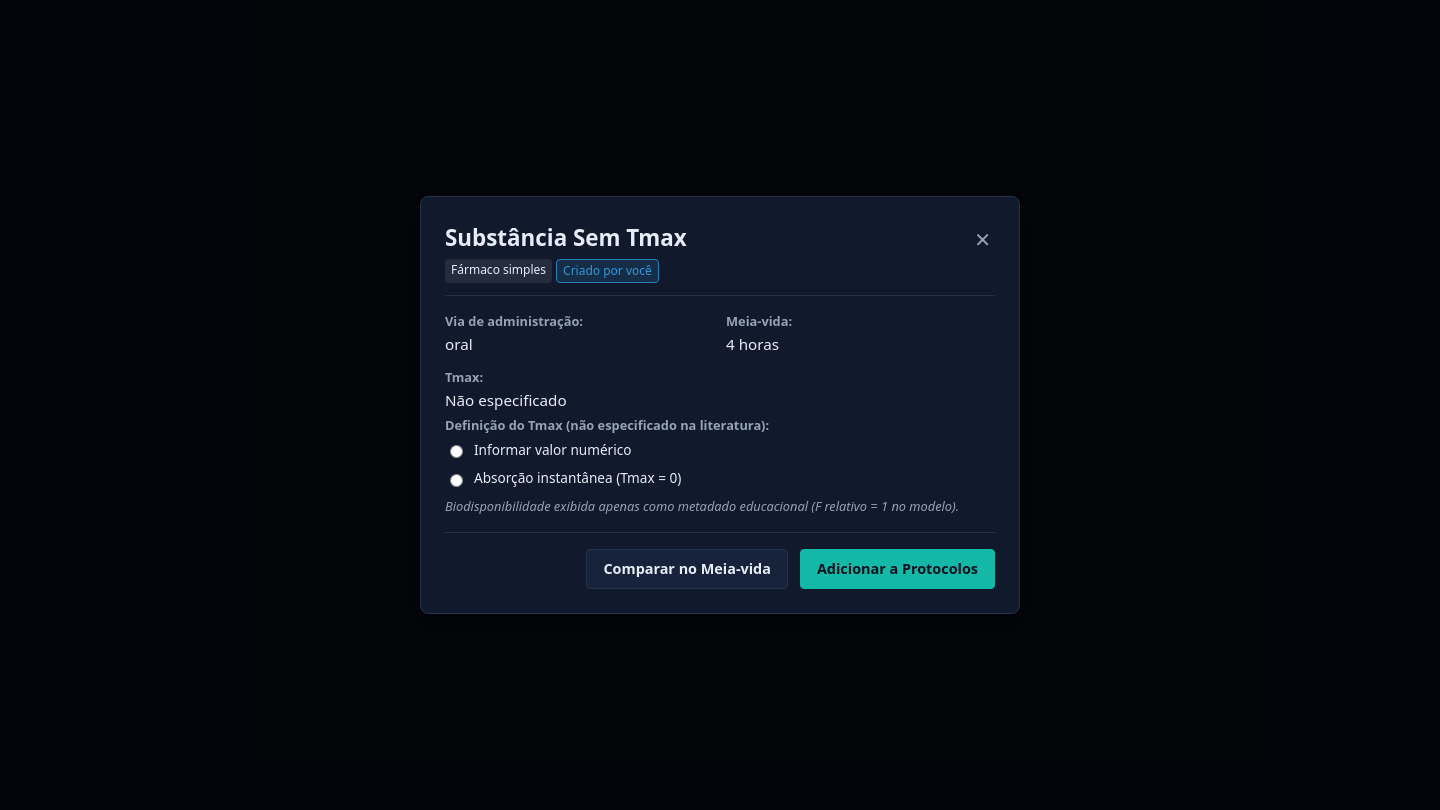
E10.1 — Blocker 7: Tmax unknown possui controles para valor e instantâneo › permite escolher absorção instantânea e gerar intent válido
Clicar em Comparar antes de escolher Tmax deve bloquear com alerta inline
Click the button "Comparar no Meia-vida": click(687, 569) top-left (586, 549), bottom-right (788, 589)
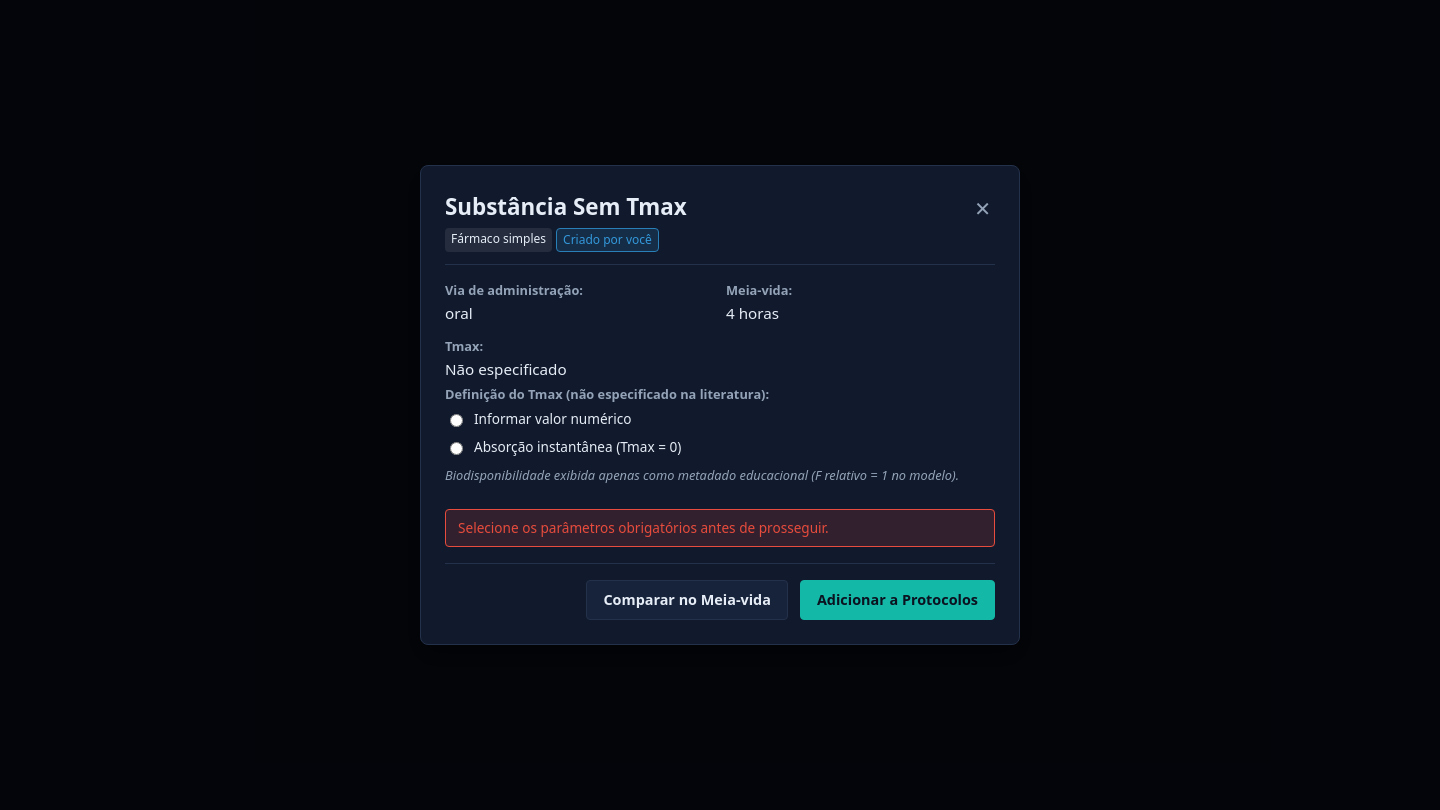
Check: the message shows "Selecione os parâmetros obrigatórios antes de prosseguir", box top-left (458, 518), bottom-right (829, 537)
Seleciona opção instantânea
Click the radio button labelled "Absorção instantânea (Tmax = 0)": click(456, 449) top-left (450, 442), bottom-right (463, 455)
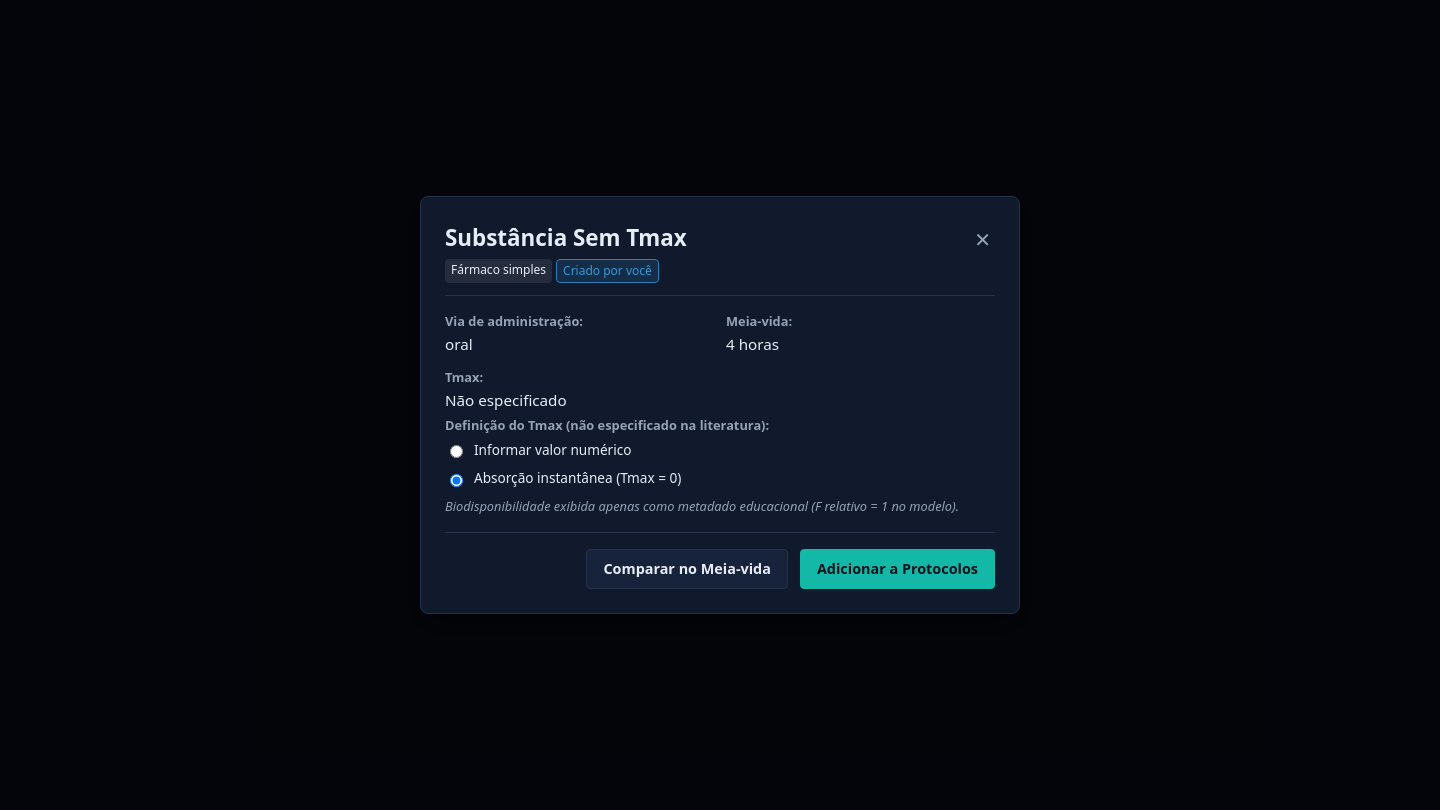
Agora clica em Comparar com sucesso
Click the button "Comparar no Meia-vida": click(687, 569) top-left (586, 549), bottom-right (788, 589)
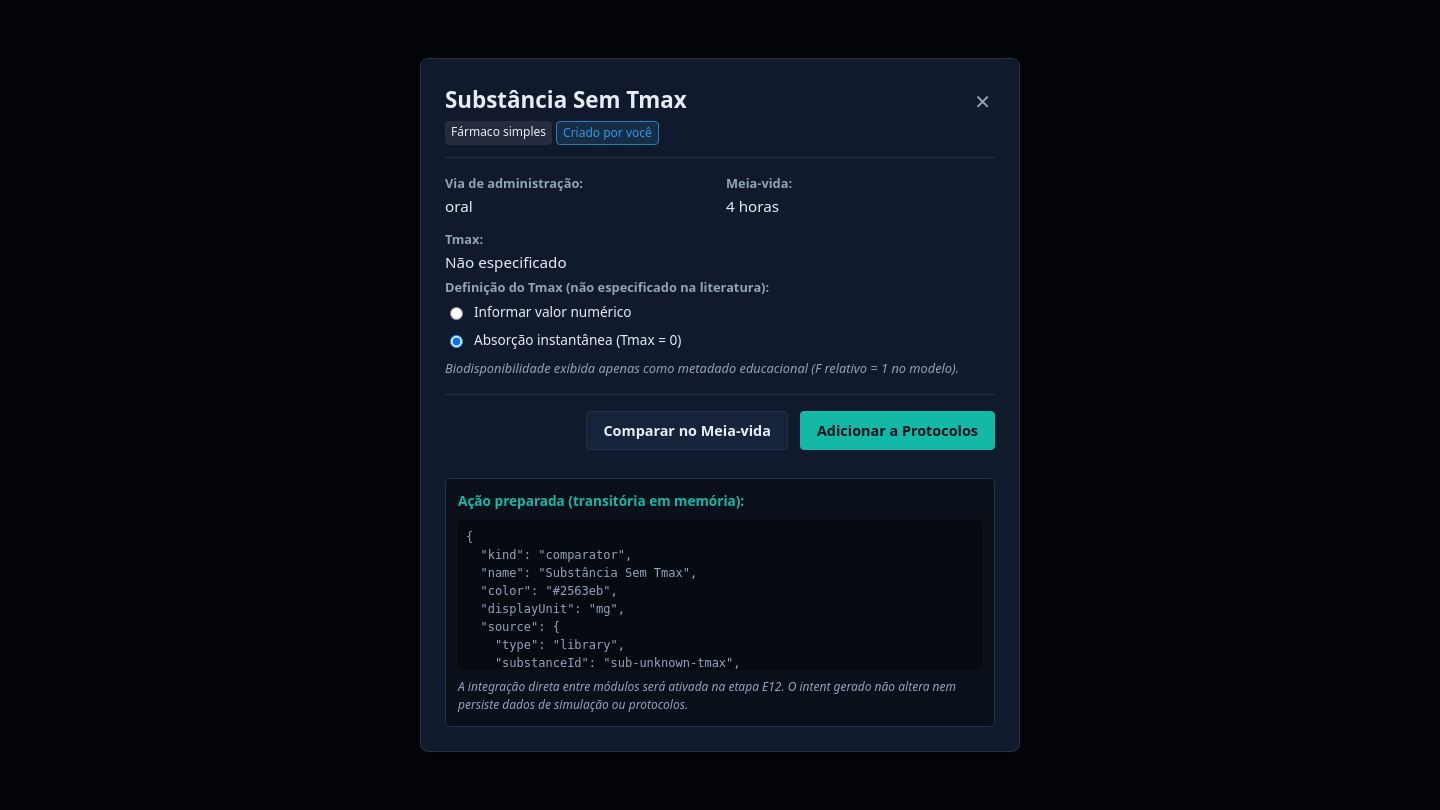
Check: the heading "Ação preparada (transitória em memória):" is shown, box top-left (458, 491), bottom-right (744, 510)
